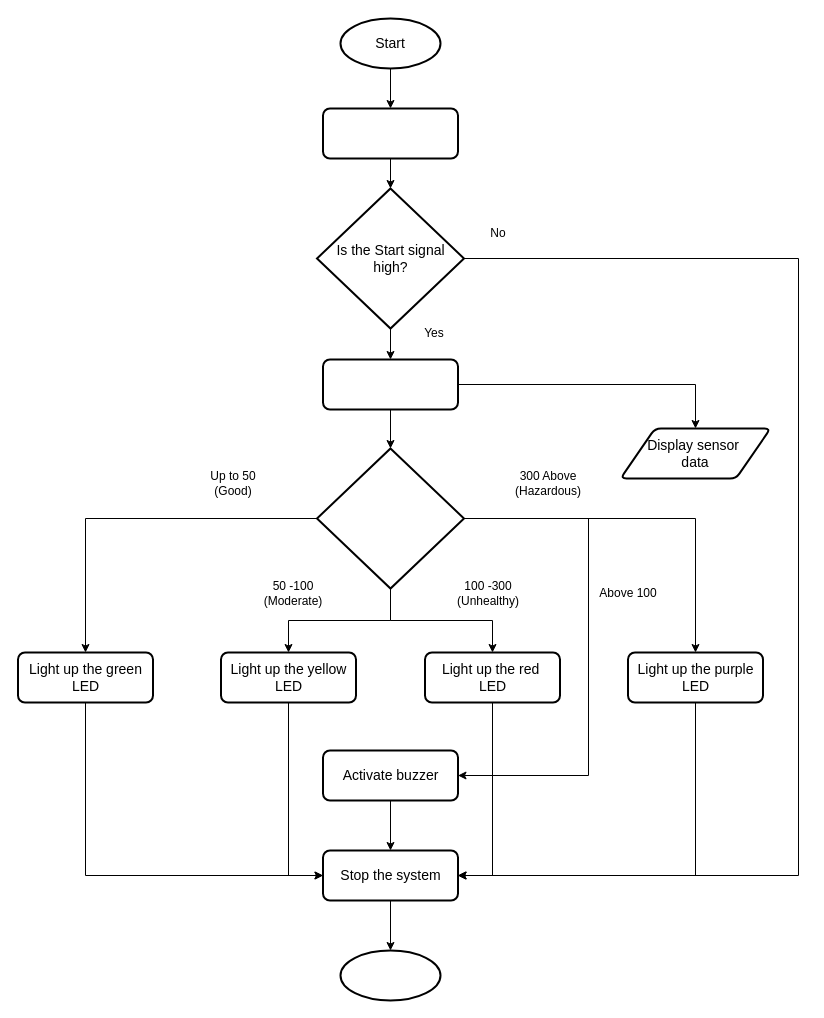
Some shapes in this 824 by 1018 pixel diagram are drawn without their labels. Here are the shapes that lost their labels. From the top down, the centre of each, then its label:
At pixel 390 133: "Start the system".
At pixel 390 384: "Generate sensor data".
At pixel 390 518: "Check sensor value".
At pixel 390 975: "Stop".
